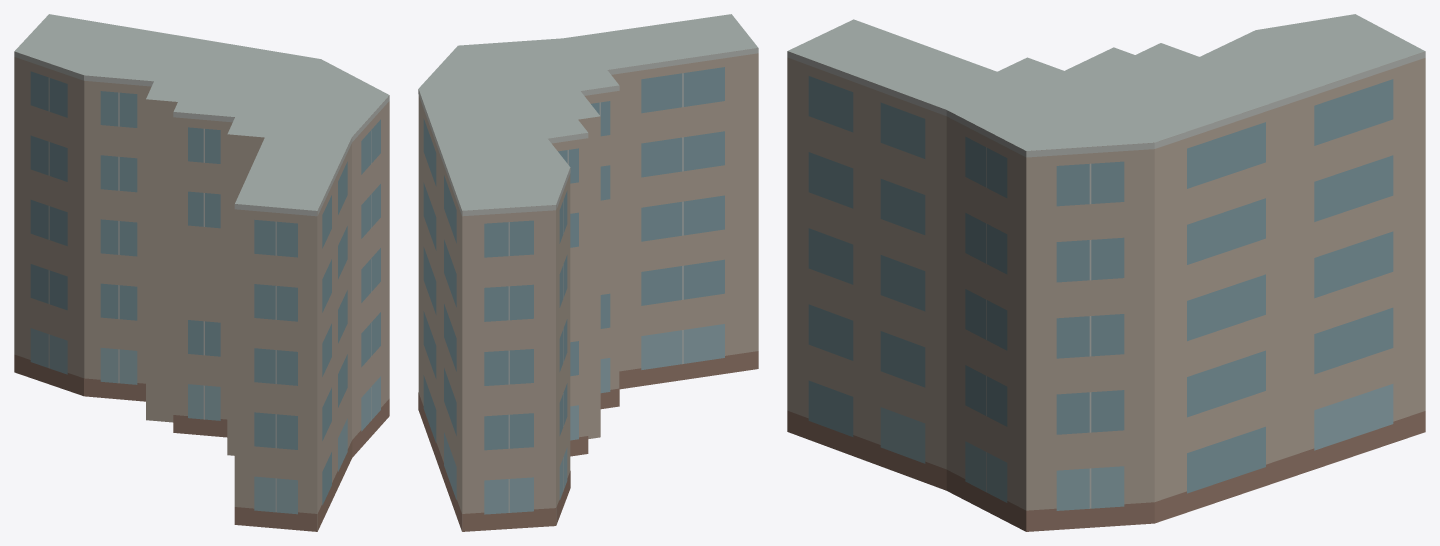
Rendered from survey-upis-32578665.glb.
3 views of the same model, side by side, from view 1: azimuth 30°, elevation 25°; view 2: azimuth 150°, elevation 25°; view 3: azimuth 270°, elevation 25° (orthographic). The views are drawn at different scales.
Visible parts, largest first — view 1: survey-upis-32578665.tmp; view 2: survey-upis-32578665.tmp; view 3: survey-upis-32578665.tmp.
Boxes of the visible parts, x1,y1,x2,y2 form: survey-upis-32578665.tmp: [14, 14, 389, 531]; survey-upis-32578665.tmp: [418, 14, 758, 531]; survey-upis-32578665.tmp: [787, 14, 1425, 531].
Bounding box in the file's own units: 11.17 × 14.45 × 21.95.
